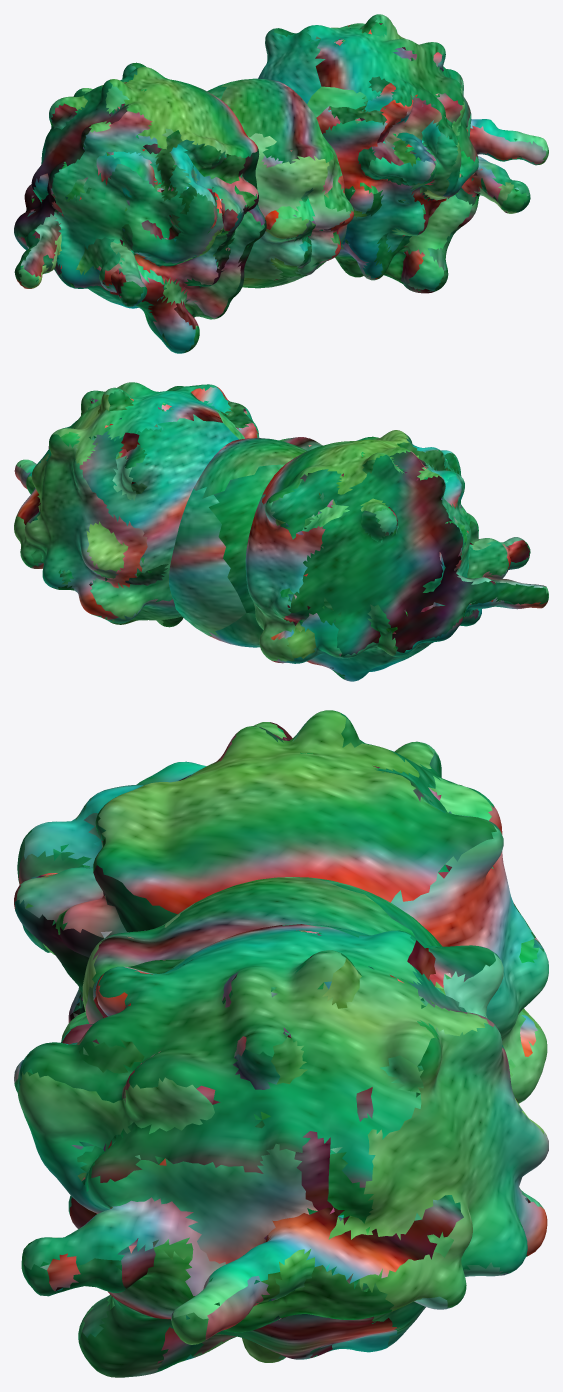
The model's file is ggggggggggggggg.fbx.
3 renders of one model, top to bottom at view 1: azimuth 30°, elevation 25°; view 2: azimuth 150°, elevation 25°; view 3: azimuth 270°, elevation 25°, orthographic. The views are drawn at different scales.
Parts seen in each view (by area): view 1: spheress; view 2: spheress; view 3: spheress.
Boxes of the visible parts, left/top/right/bottom form: spheress: left=14, top=14, right=548, bottom=353; spheress: left=14, top=382, right=548, bottom=681; spheress: left=14, top=710, right=548, bottom=1377.
Size of the model in its own units: 583 by 252 by 275.
